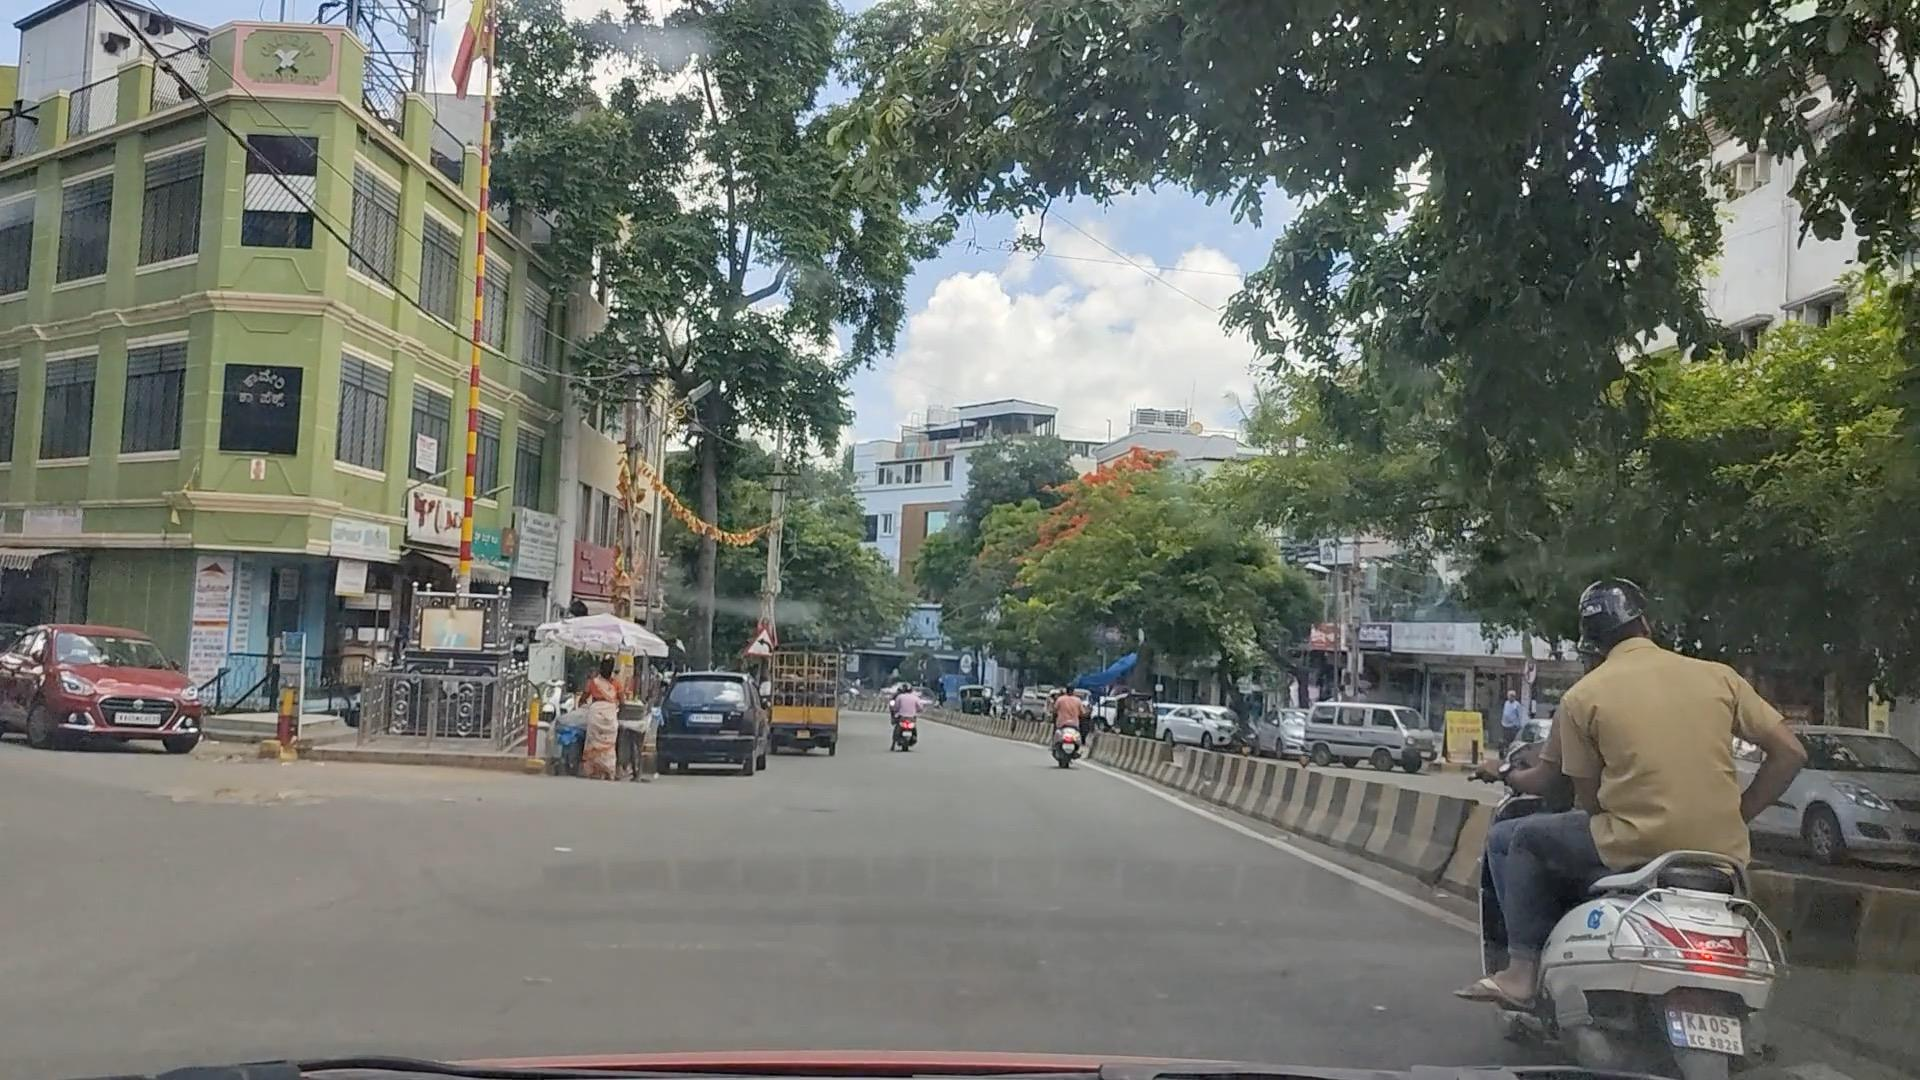LMV: (1484, 600, 1771, 1080), (647, 670, 790, 770)
